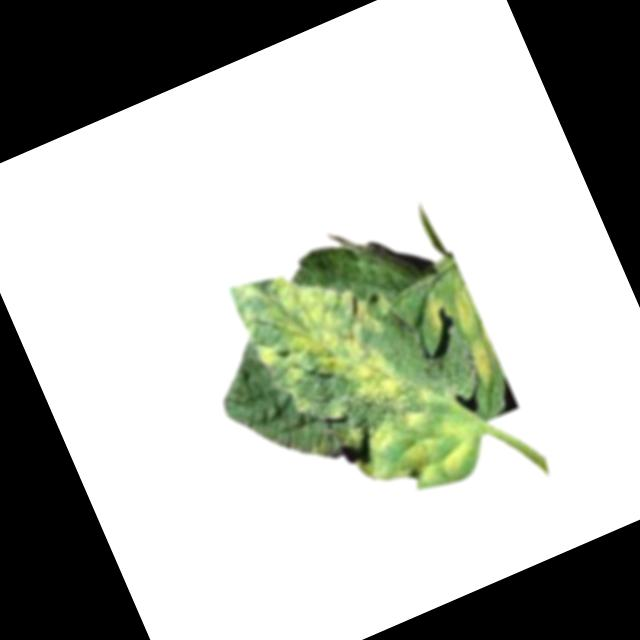Leaf_Mold: (227, 232, 427, 442), (336, 376, 492, 518), (444, 280, 487, 338), (465, 337, 501, 387), (422, 293, 454, 335)
